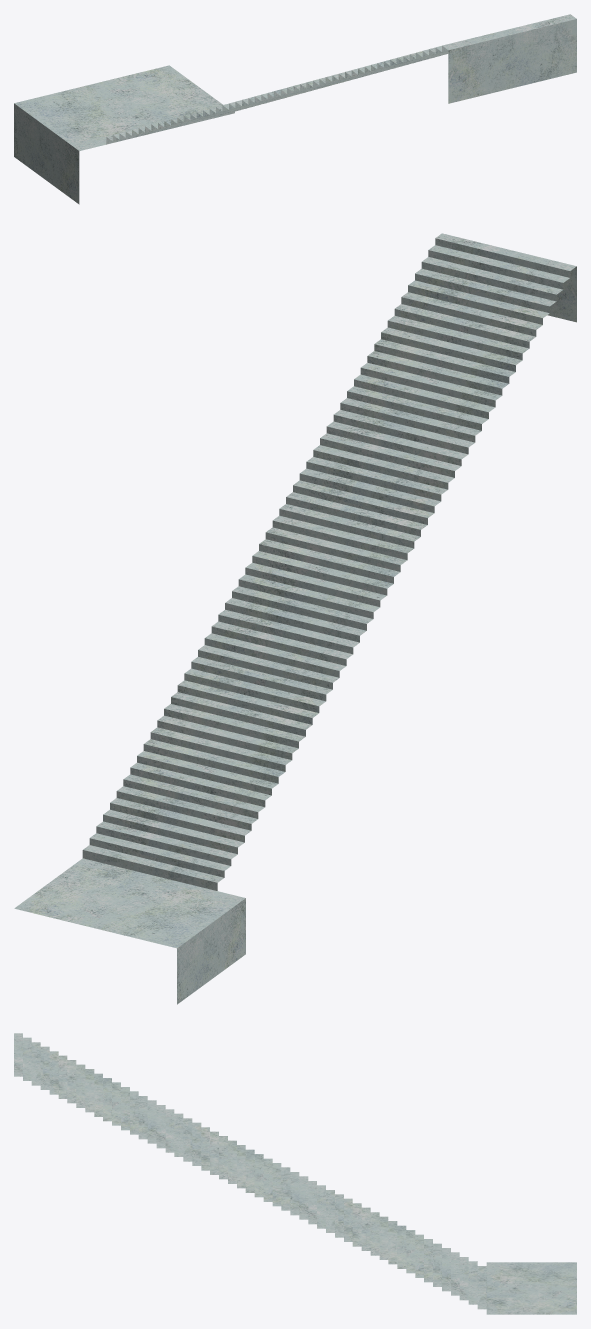
Rendered from FinalMap_Stairs 2.FBX.
3 renders of one model, top to bottom at view 1: azimuth 30°, elevation 25°; view 2: azimuth 150°, elevation 25°; view 3: azimuth 270°, elevation 25°, orthographic. The views are drawn at different scales.
Visible parts, largest first — view 1: FinalMap_Stairs; view 2: FinalMap_Stairs; view 3: FinalMap_Stairs.
Part boxes in pixels (x1=…): FinalMap_Stairs: x1=14, y1=14, x2=576, y2=204; FinalMap_Stairs: x1=14, y1=233, x2=576, y2=1004; FinalMap_Stairs: x1=14, y1=1033, x2=576, y2=1314.
Bounding box in the file's own units: 222 × 545 × 1010.
